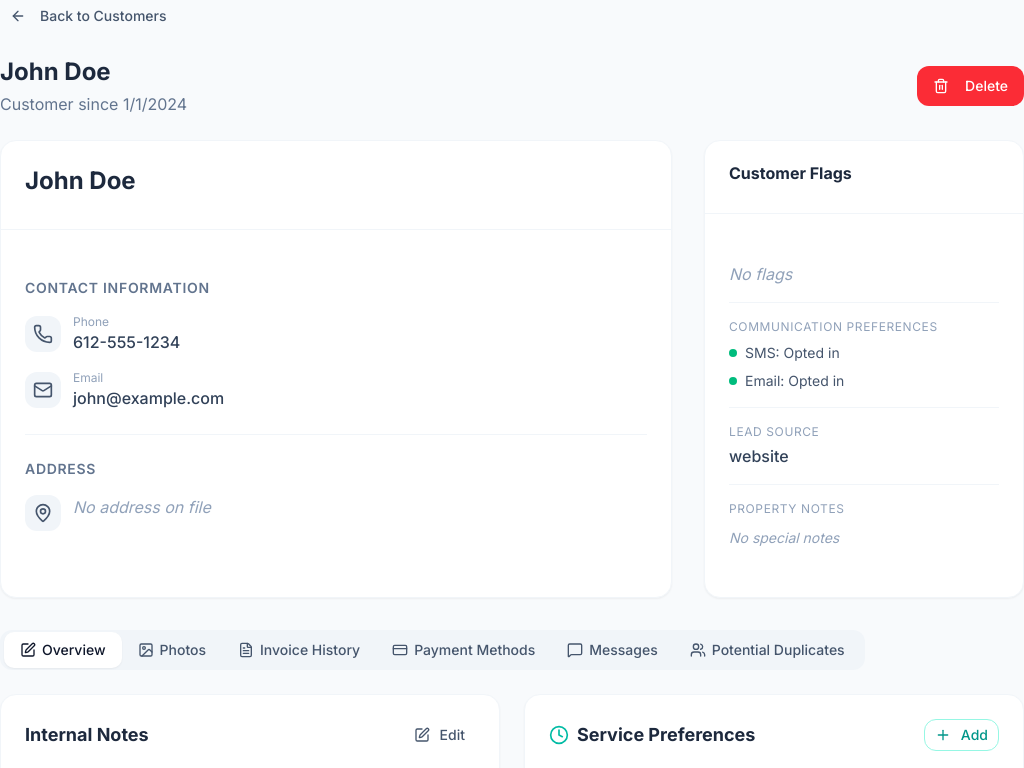
Test: CustomerDetail › opens notes editor when Edit is clicked
Click the button with test id "edit-notes-btn". click: click(439, 735)
box: [404,719,475,751]
(page scrolled)
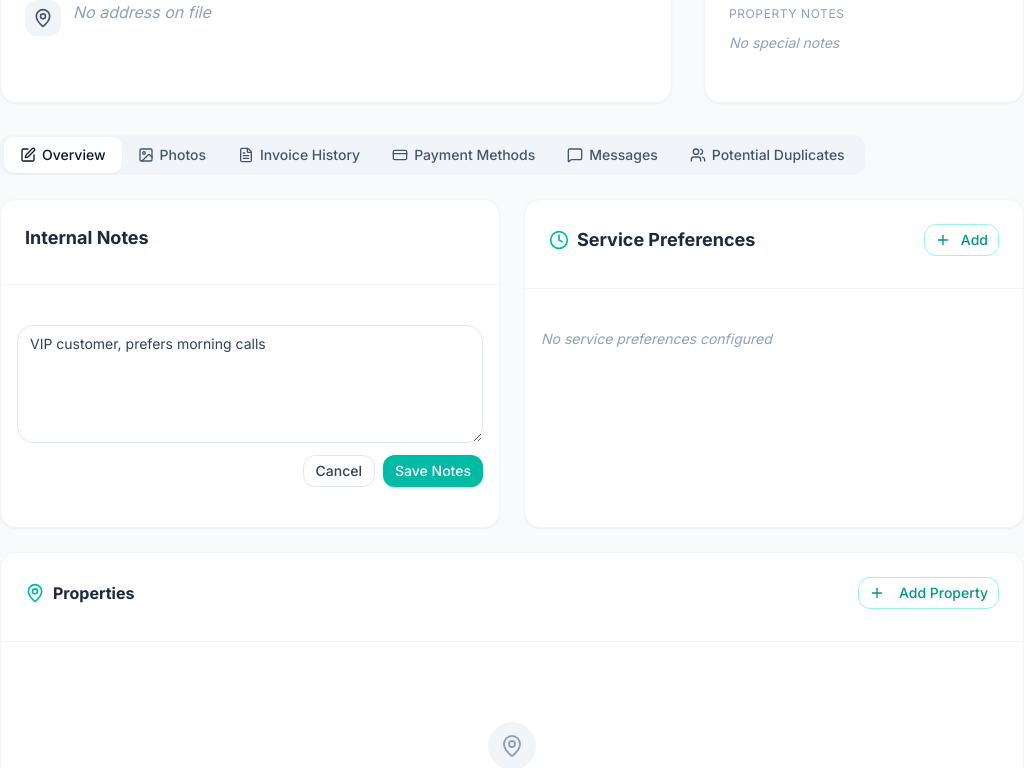
Result: the element with test id "notes-editor" is shown at [17,325,483,487]
Result: the text box with test id "internal-notes-textarea" is shown at [17,325,483,443]
